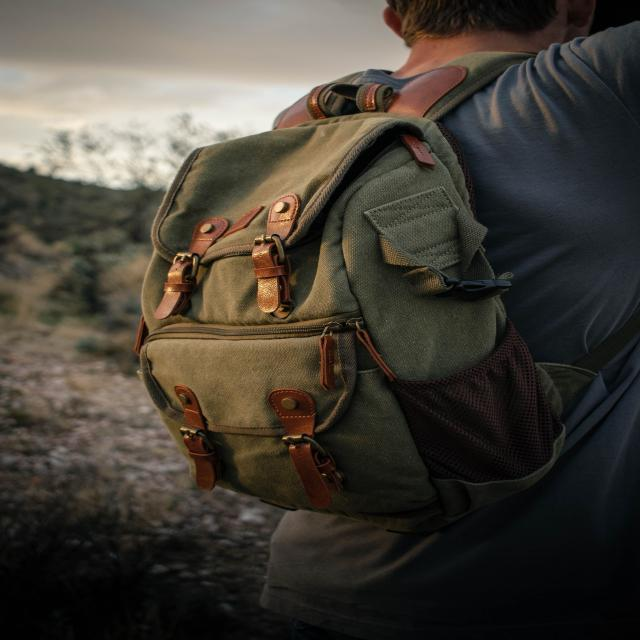backpack: (145, 48, 620, 531)
